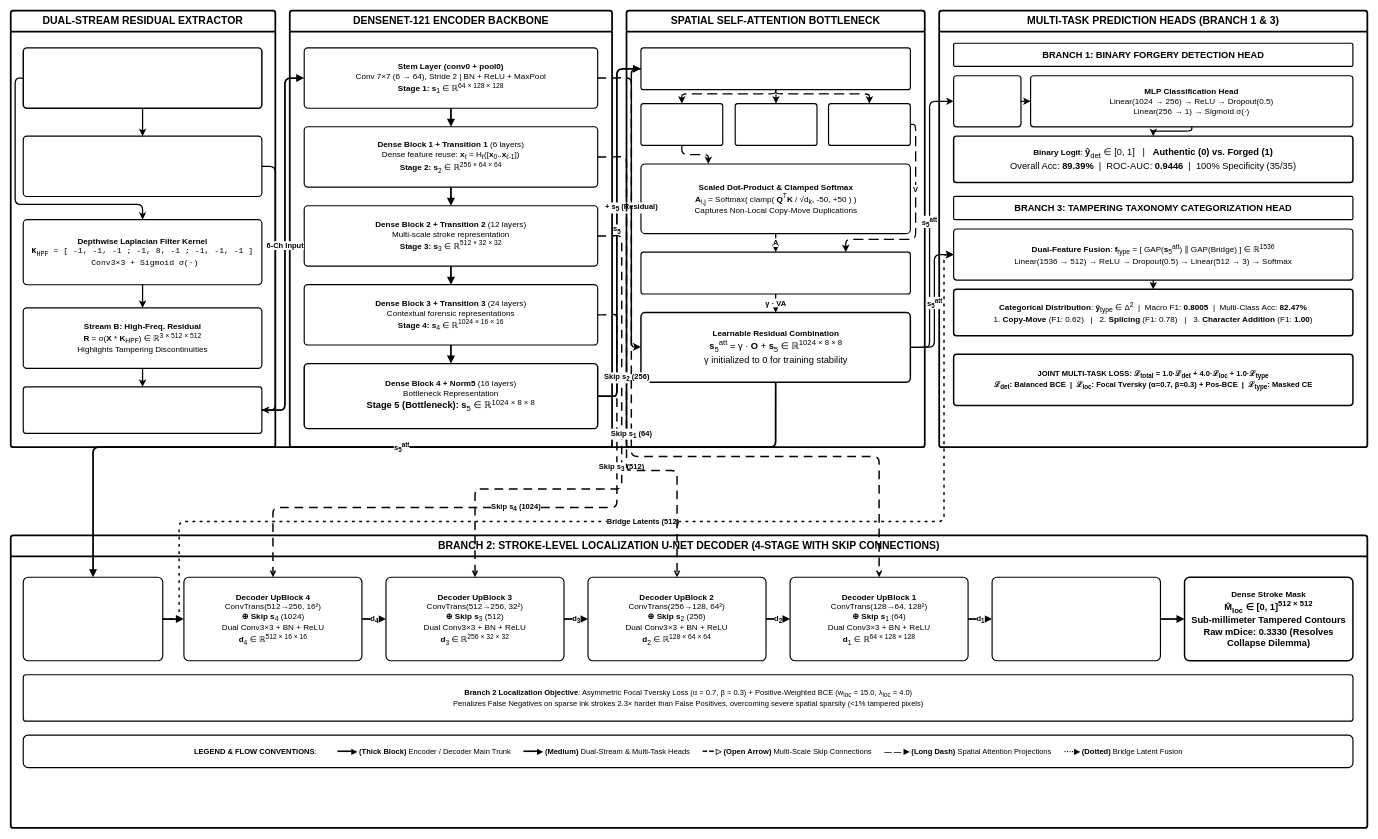
Some shapes in this 1378 by 839 pixel diagram are drawn without their labels. The shapes that lost their labels are listed below. From the top down, each one's centre as x and y in pixels, then its label:
(x=142, y=78): High-Res Document Patch X ∈ ℝ 3 × 512 × 512 Native Scan Fidelity (100% DPI)
(x=775, y=68): Bottleneck Features : s 5 ∈ ℝ 1024 × 8 × 8 (N = 64)
(x=987, y=101): GAP ∈ ℝ 1024
(x=681, y=124): Query (Q) W q s 5 ∈ ℝ 128 × 64
(x=775, y=124): Key (K) W k s 5 ∈ ℝ 128 × 64
(x=869, y=124): Value (V) W v s 5 ∈ ℝ 1024 × 64
(x=142, y=166): Stream A: RGB Visual Appearance X ∈ ℝ 3 × 512 × 512 Character Stroke Morphology
(x=775, y=272): Value Context Aggregation O = V · A ∈ ℝ 1024 × 8 × 8
(x=142, y=410): Channel Concatenation X dual = [ X ∥ R ] ∈ ℝ 6 × 512 × 512
(x=92, y=618): Bridge Conv 3×3 (1024→512) BN + ReLU b ∈ ℝ 512 × 8 × 8
(x=1076, y=618): Seg Head ConvTrans(64→32, 256²) ReLU → Conv1×1(32→1) Sigmoid σ(·)
